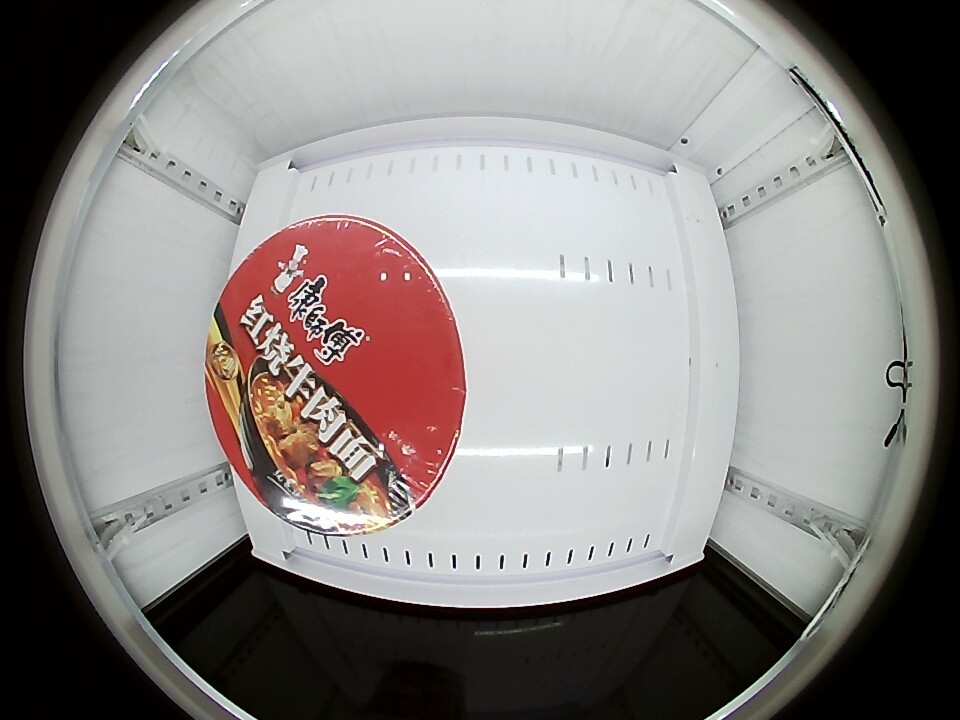hongshaoniurou: (206, 216, 467, 536)
